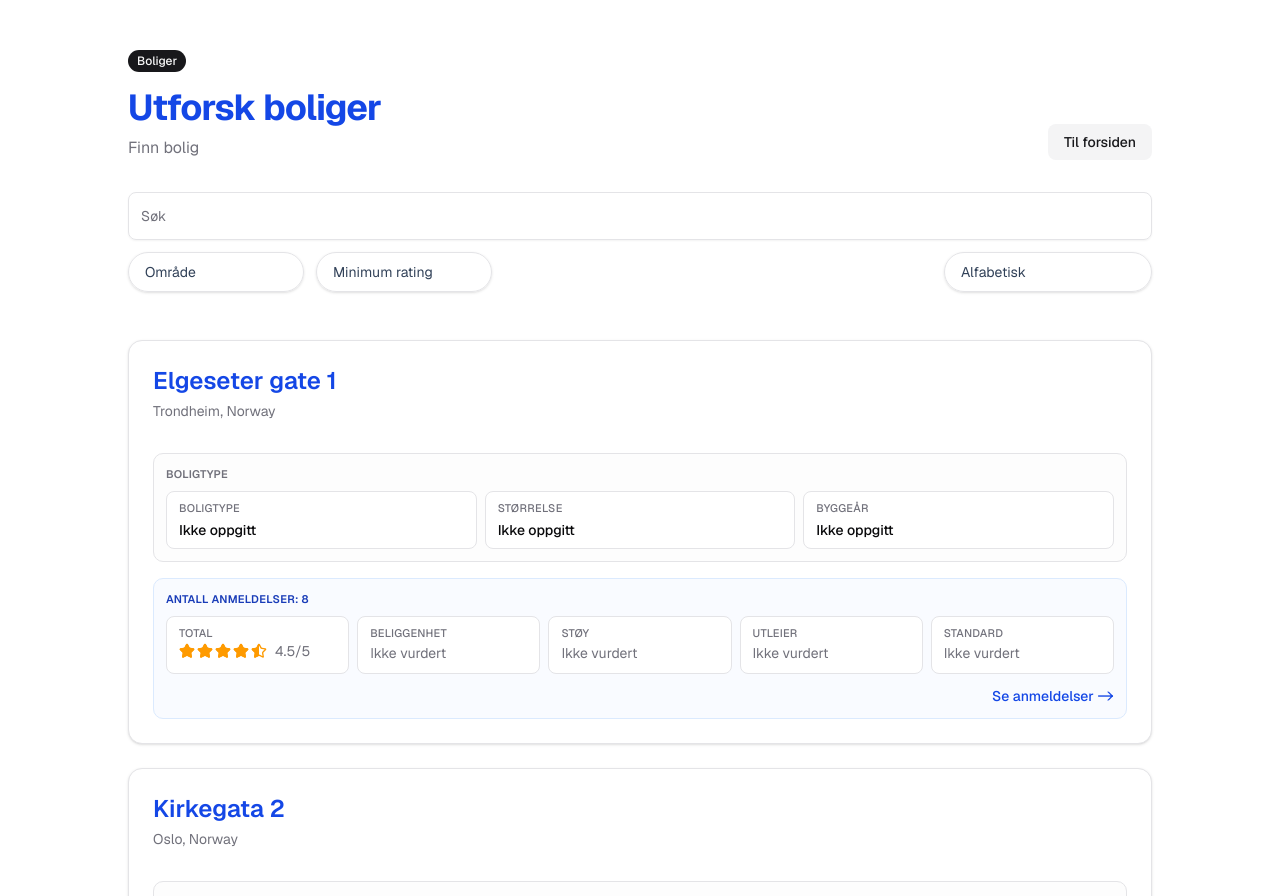
Scenario: PropertiesClient filters › updates property list and URL when area and rating are changed
Select "Trondheim" in the dropdown named "Område" at {"x": 216, "y": 272}, box [128,252,304,292]
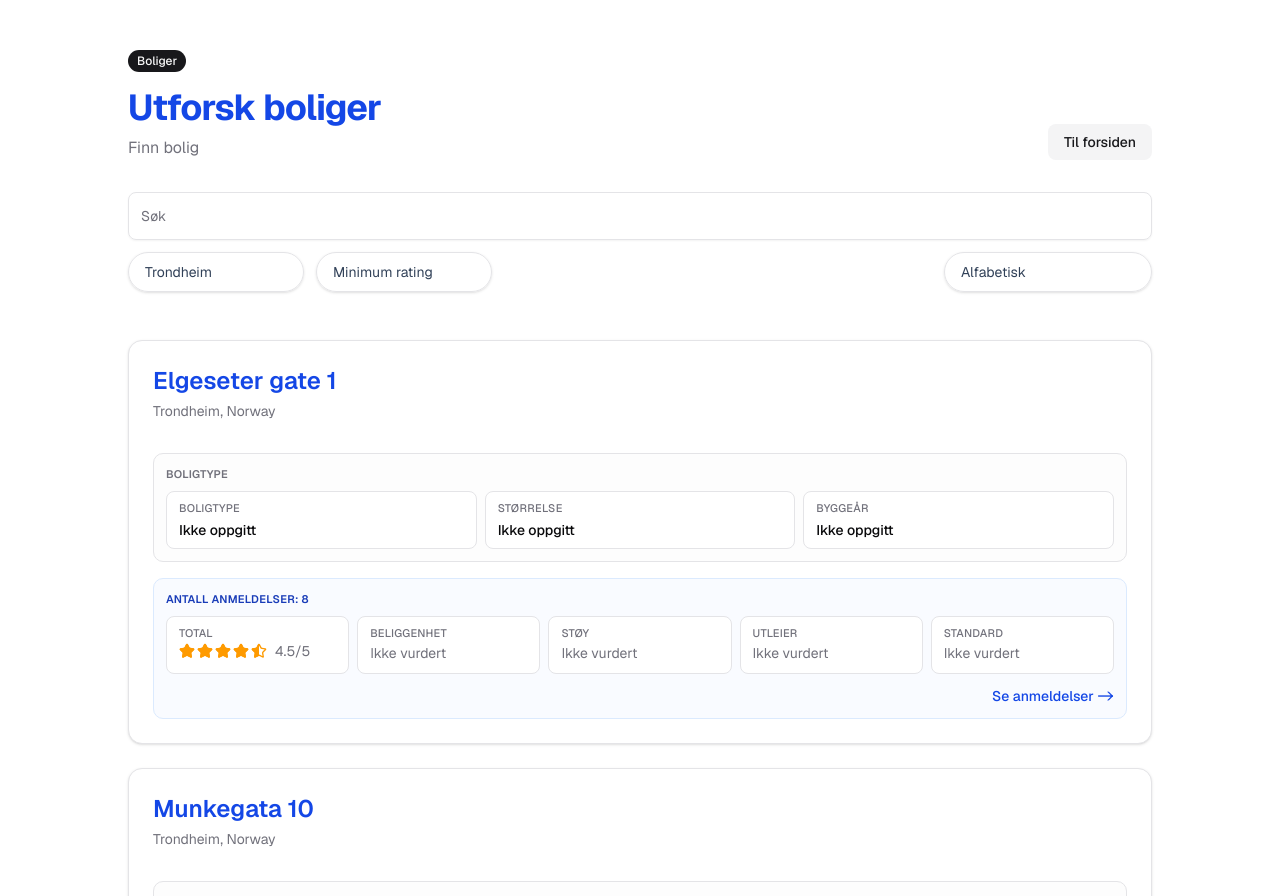
Select "4.0 stjerner" in the dropdown named "Minimum rating" at {"x": 404, "y": 272}, box [316,252,492,292]
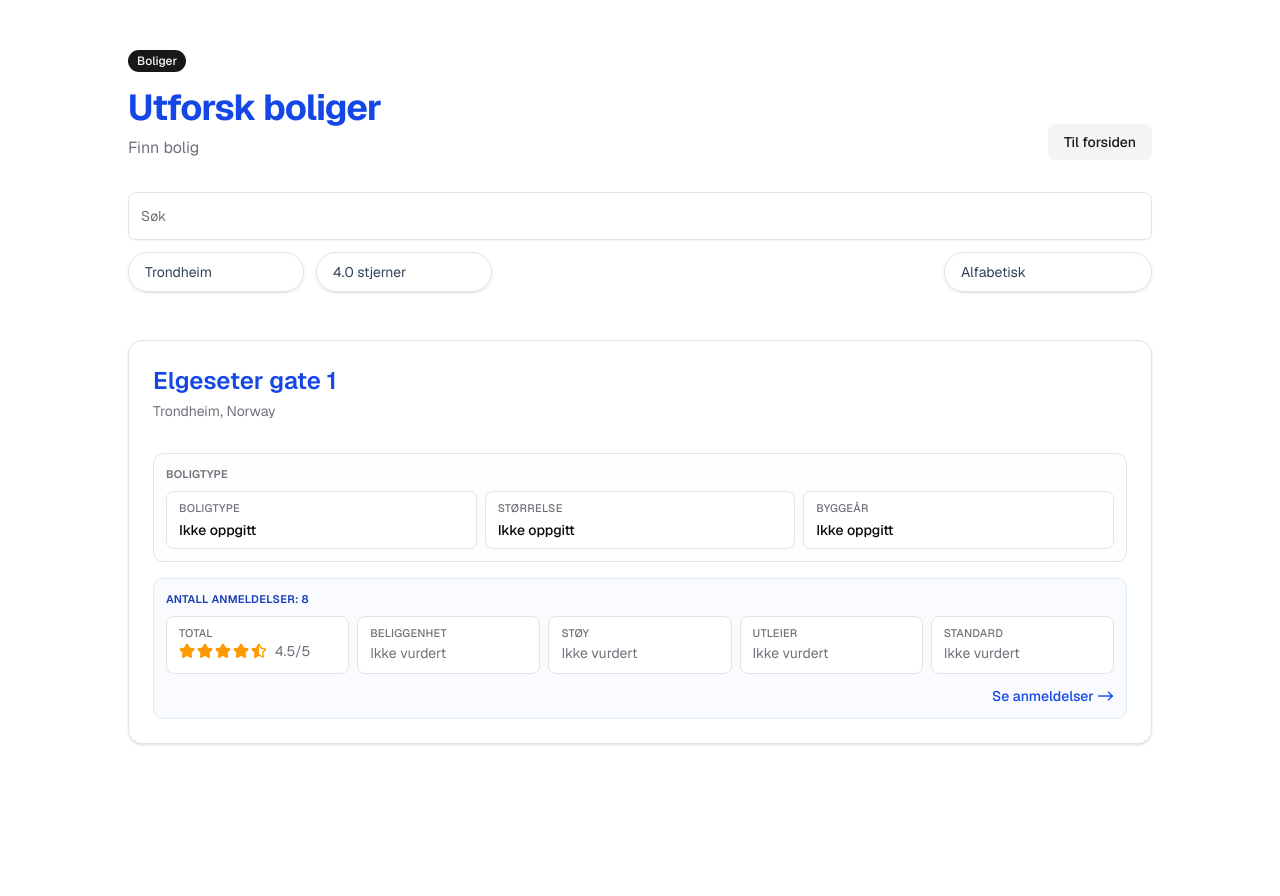
Expected: the link "Elgeseter gate 1" is shown, [153,365,337,396]
Now the link "Munkegata 10" is gone
